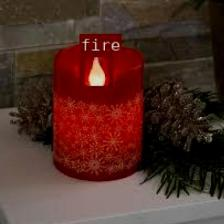fire: (79, 52, 112, 90)
